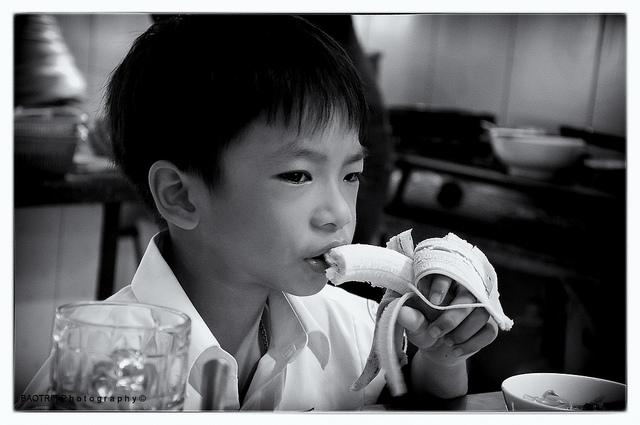banana: (323, 228, 514, 397)
